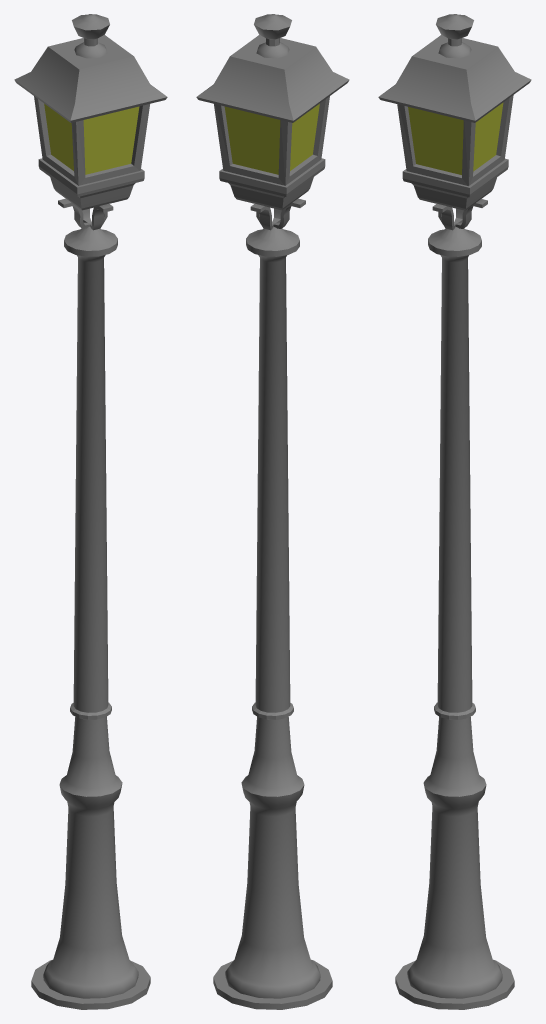
Rendered from SM_lamp_street_02.fbx.
The picture shows the model from 3 angles, left to right: view 1: azimuth 30°, elevation 25°; view 2: azimuth 150°, elevation 25°; view 3: azimuth 330°, elevation 25°; orthographic projection.
Visible parts, largest first — view 1: Box040; view 2: Box040; view 3: Box040.
Part boxes in pixels (x1,y1,x2,y2): Box040: (14,14,167,1009); Box040: (196,14,349,1009); Box040: (378,14,531,1009).
Bounding box in the file's own units: 16.84 × 150 × 16.42.
